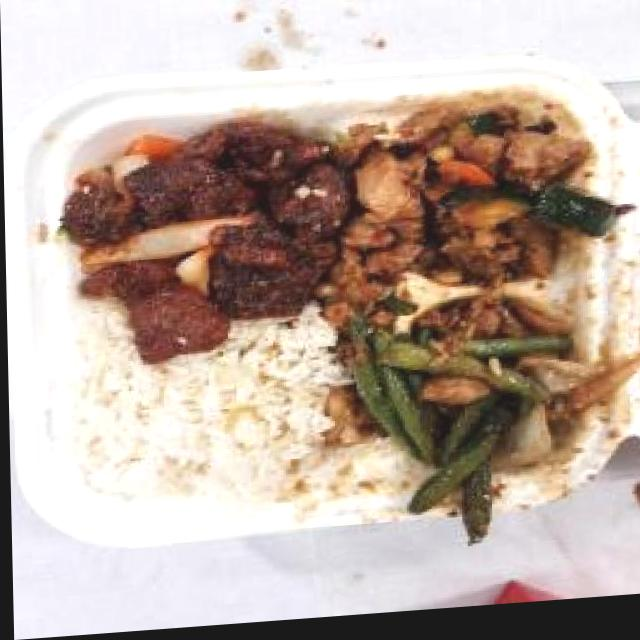Beijing Beef: (62, 107, 346, 362)
Kung Pao Chicken: (332, 92, 619, 319)
String Bean Chicken Breast: (336, 309, 600, 557)
White Steamed Rice: (71, 344, 337, 522)
